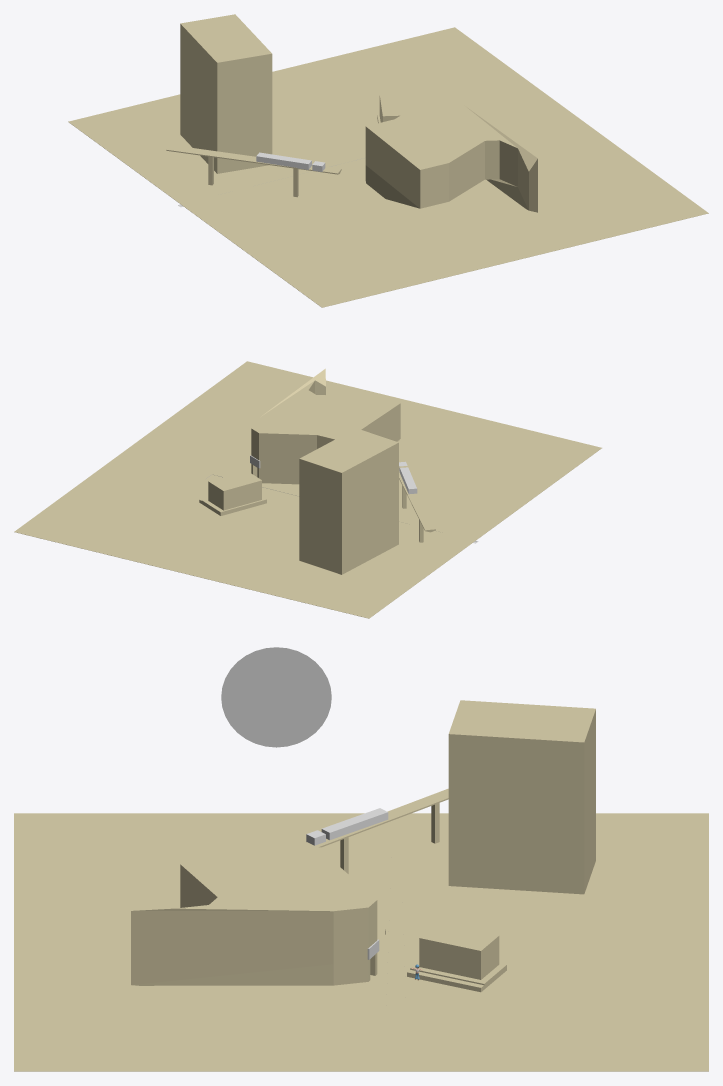
3 renders of one model, top to bottom at view 1: azimuth 30°, elevation 25°; view 2: azimuth 150°, elevation 25°; view 3: azimuth 270°, elevation 25°, orthographic. The views are drawn at different scales.
Parts seen in each view (by area): view 1: ground, Building.002, Cube, Railway.001, Cube.001, 立方體; view 2: ground, Cube, Building.002, Cube.001, Railway.001; view 3: ground, Building.002, Cube, Circle, Cube.001, 立方體, Railway.001.
Boxes of the visible parts, x1,y1,x2,y2 form: ground: (68,27,708,307); Building.002: (365,96,537,212); Cube: (180,14,272,173); Railway.001: (166,145,341,174); Cube.001: (377,94,411,123); 立方體: (256,152,325,171); ground: (14,361,601,618); Cube: (299,428,398,574); Building.002: (251,368,400,484); Cube.001: (199,470,266,515); Railway.001: (399,460,435,532); ground: (14,813,708,1071); Building.002: (131,845,377,985); Cube: (448,700,595,894); Circle: (221,647,331,747); Cube.001: (407,922,506,992); 立方體: (306,808,388,845); Railway.001: (295,788,448,847).
Bounding box in the file's own units: 143 × 37.02 × 109.
Materials: 4 (1 with a texture image).
